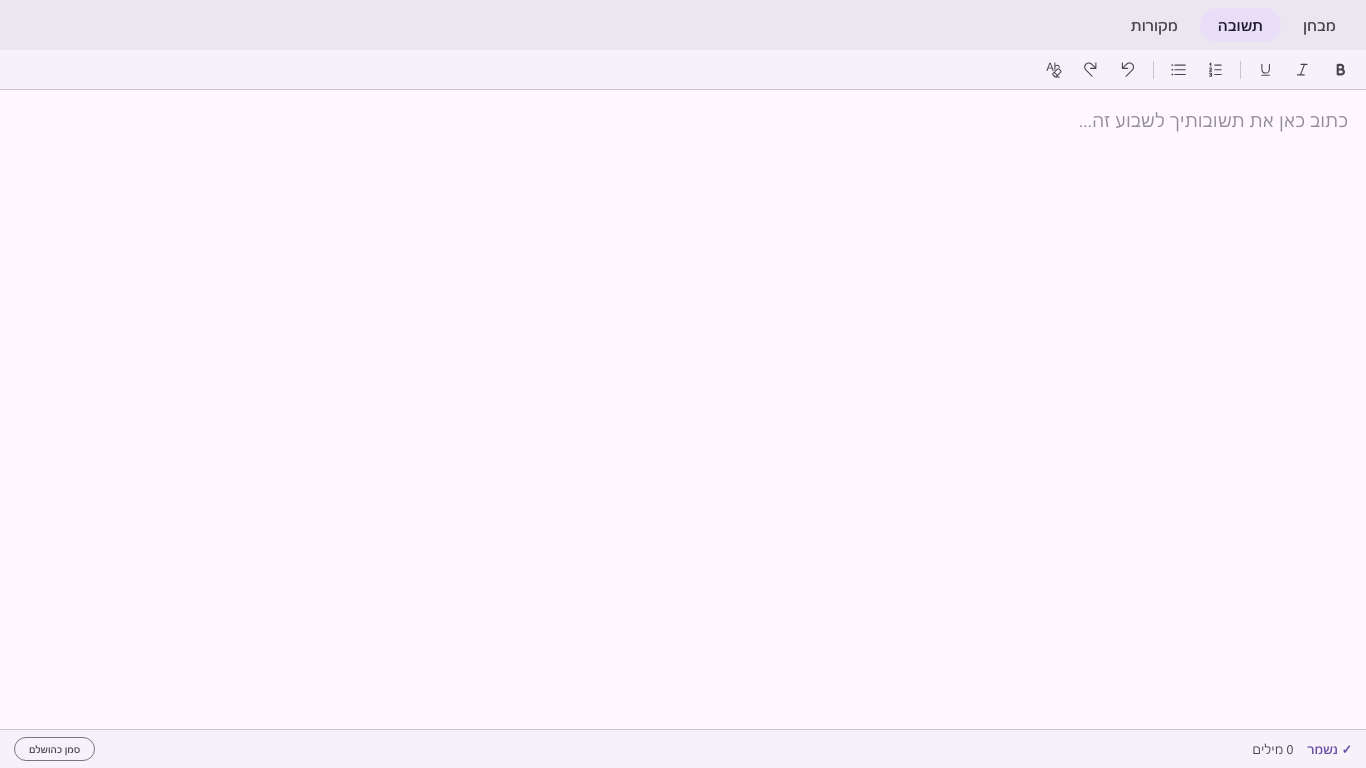
Test case: WorkspaceScreen — מסך צר › מעבר לטאב "מקורות" מציג את המקורות
Click the button "מקורות": (1154, 25) left=1113, top=8, right=1196, bottom=42
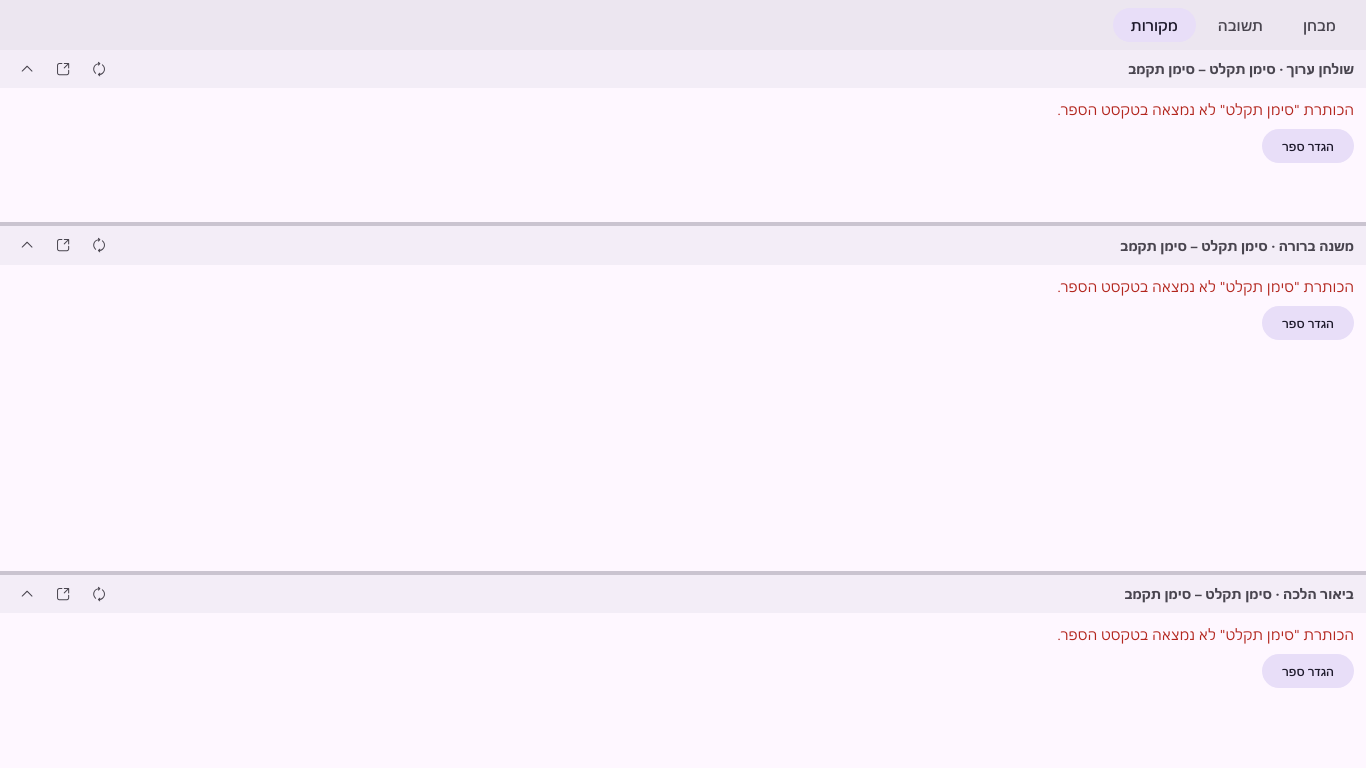
Expected: the text "משנה ברורה · סימן תקלט – סימן תקמב" is shown, left=1120, top=237, right=1354, bottom=254
